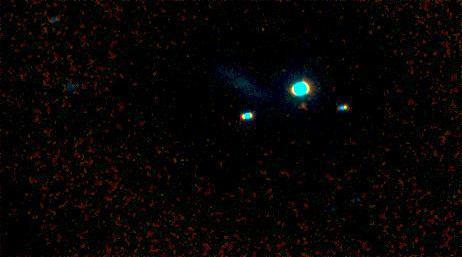star: (288, 88, 318, 118)
